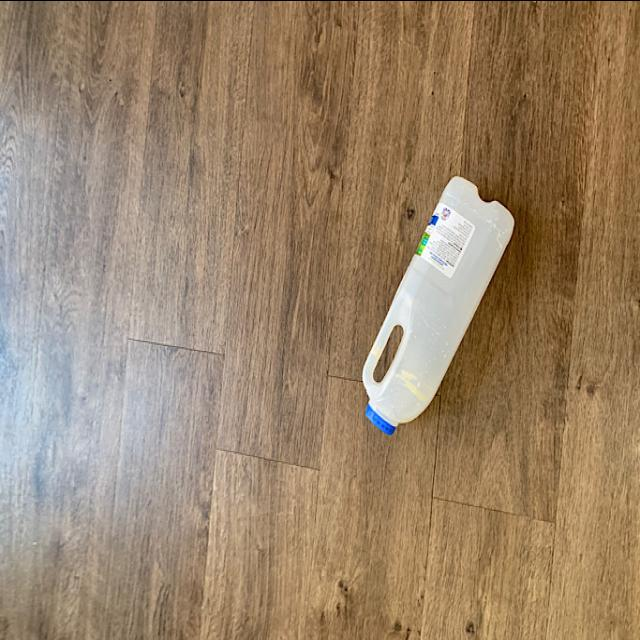HDPEM: (362, 171, 518, 431)
